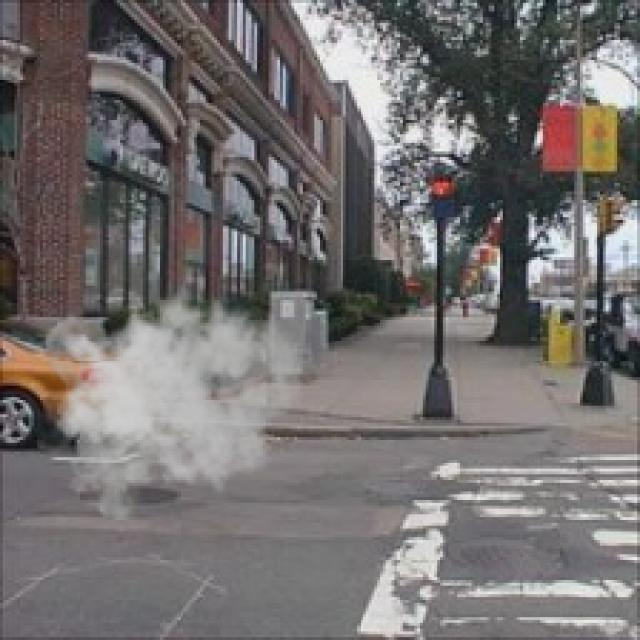smoke: (37, 271, 306, 520)
